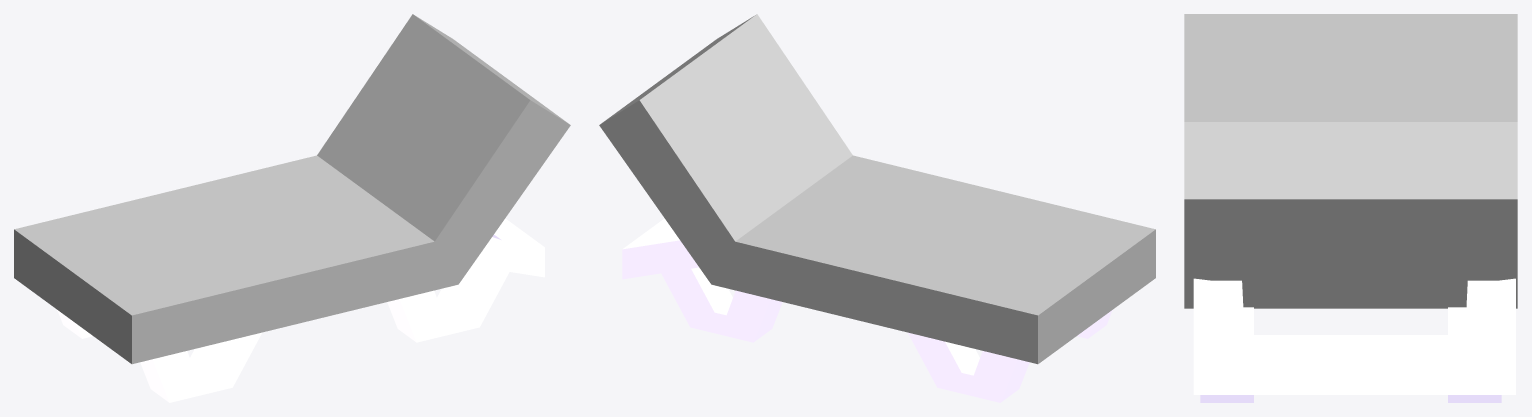
File: beach_chair.fbx
3 views of the same model, side by side, from view 1: azimuth 30°, elevation 25°; view 2: azimuth 150°, elevation 25°; view 3: azimuth 270°, elevation 25° (orthographic). The views are drawn at different scales.
Visible parts, largest first — view 1: chair.top, chair.feet; view 2: chair.top, chair.feet; view 3: chair.top, chair.feet.
Part boxes in pixels (bbox=[...]): chair.top: bbox=[14, 14, 570, 364]; chair.feet: bbox=[57, 218, 544, 402]; chair.top: bbox=[599, 14, 1155, 364]; chair.feet: bbox=[622, 218, 1112, 402]; chair.top: bbox=[1184, 14, 1517, 308]; chair.feet: bbox=[1193, 278, 1515, 402].
Bounding box in the file's own units: 2.14 × 1.03 × 0.9951.
